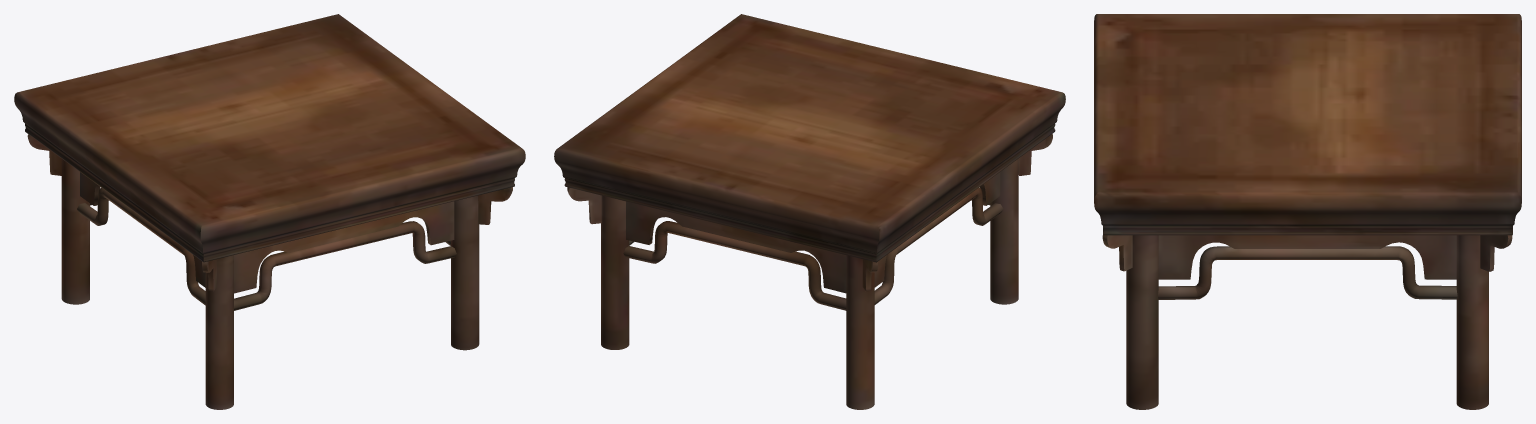
File: tea_table.glb
3 views of the same model, side by side, from view 1: azimuth 30°, elevation 25°; view 2: azimuth 150°, elevation 25°; view 3: azimuth 270°, elevation 25° (orthographic). The views are drawn at different scales.
Visible parts, largest first — view 1: chinese_tea_table; view 2: chinese_tea_table; view 3: chinese_tea_table.
Part boxes in pixels (left/top/right/bottom): chinese_tea_table: left=14, top=14, right=525, bottom=409; chinese_tea_table: left=554, top=14, right=1065, bottom=409; chinese_tea_table: left=1094, top=14, right=1521, bottom=409.
Bounding box in the file's own units: 0.8413 × 0.4987 × 0.8357.
1 material, 1 textured.
